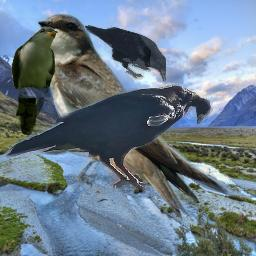Crow: (3, 83, 213, 192), (84, 25, 166, 82)
Cuckoo: (11, 26, 58, 135)
Swallow: (37, 13, 229, 223)
